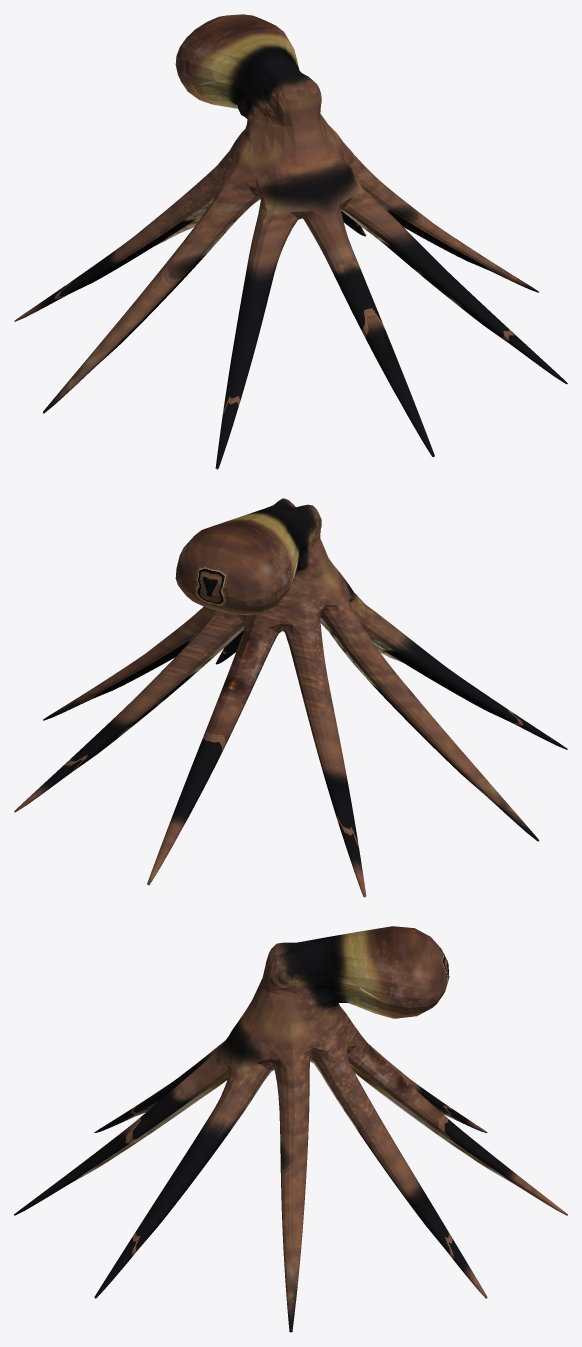
Rendered from octopus.obj.
The picture shows the model from 3 angles, top to bottom: view 1: azimuth 30°, elevation 25°; view 2: azimuth 150°, elevation 25°; view 3: azimuth 270°, elevation 25°; orthographic projection. The views are drawn at different scales.
Parts seen in each view (by area): view 1: octo_body, octo_bottom; view 2: octo_body, octo_bottom; view 3: octo_body, octo_bottom.
Boxes of the visible parts, x1,y1,x2,y2 form: octo_body: [14, 14, 567, 469]; octo_bottom: [22, 198, 533, 364]; octo_body: [14, 498, 567, 897]; octo_bottom: [47, 617, 532, 792]; octo_body: [14, 926, 567, 1332]; octo_bottom: [73, 1058, 511, 1243].
Bounding box in the file's own units: 2.36 × 1.33 × 2.35.
